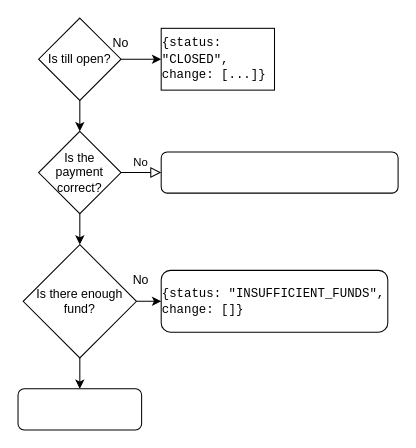
Image size: 416x448. Some labels were removed from this diagram. Here are the shapes that lost their labels. From the top down, the centre of each, then its label:
point (279, 172): {status: "INCORRECT_PAYMENT", change: []}
point (79, 409): {status: "OPEN", change: [...]}
